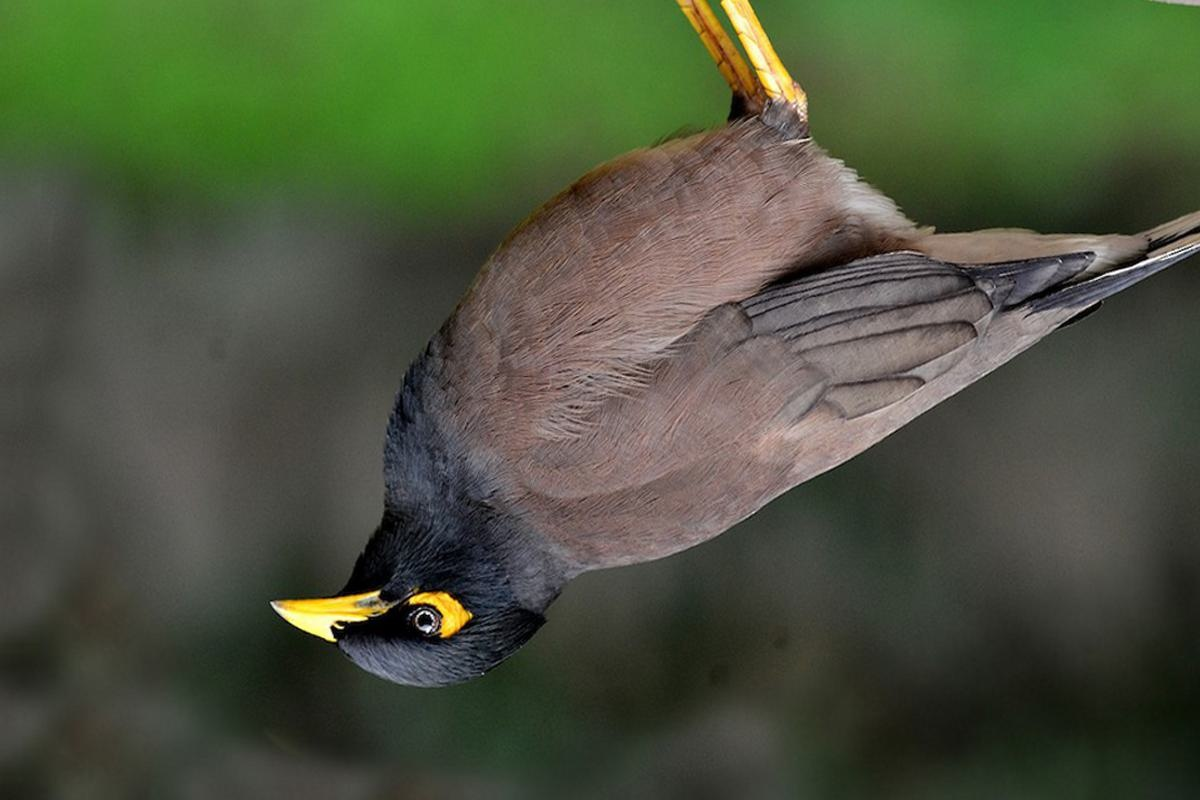myna: (253, 53, 1177, 700)
